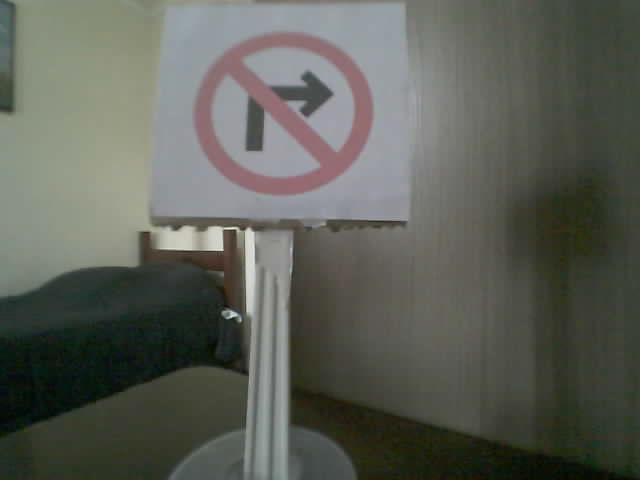R-4b_proibido-direita: (194, 31, 374, 195)
